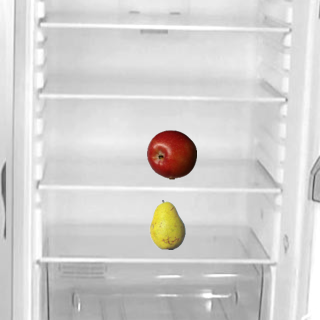Apple Braeburn: (146, 129, 196, 179)
Pear Monster: (142, 199, 192, 249)
